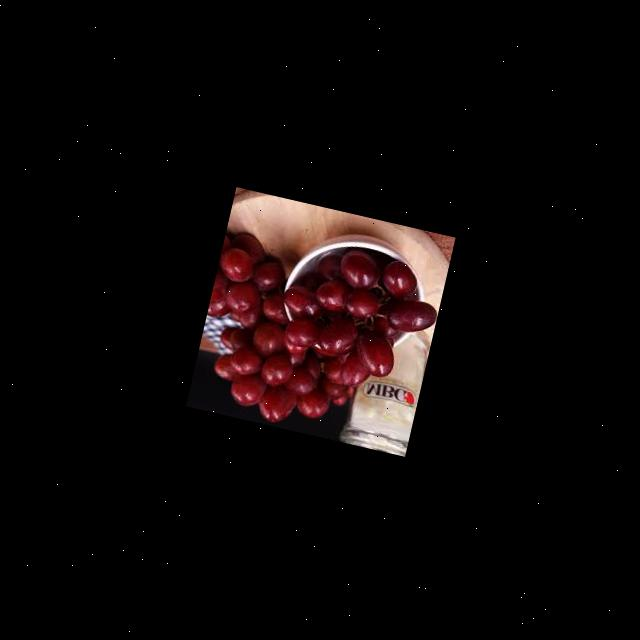grape: (186, 216, 447, 452)
